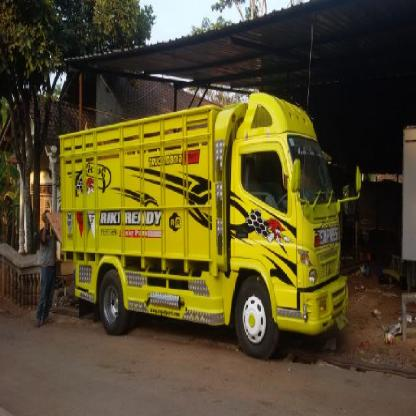truck: (60, 89, 365, 350)
